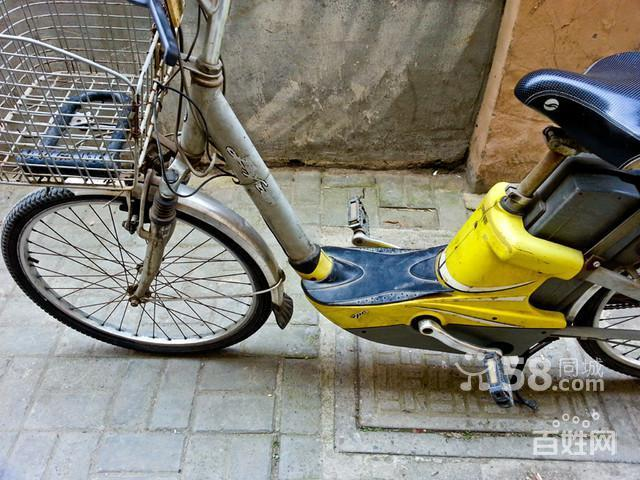电动车: (8, 11, 640, 408)
